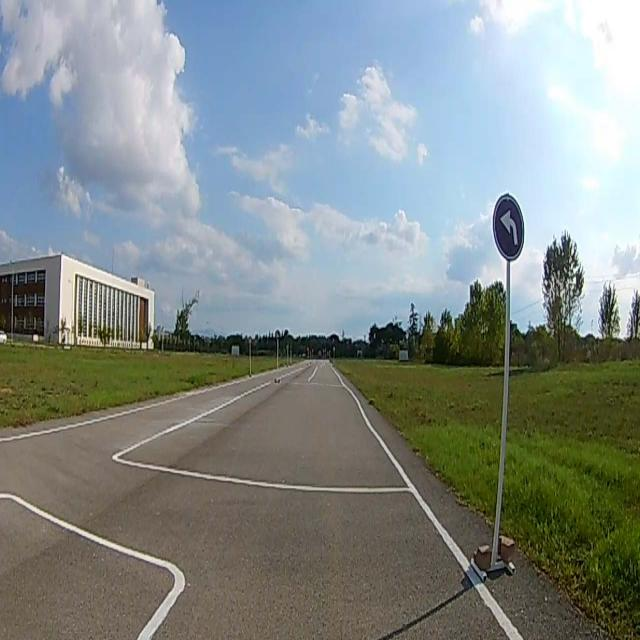sol: (494, 198, 524, 260)
